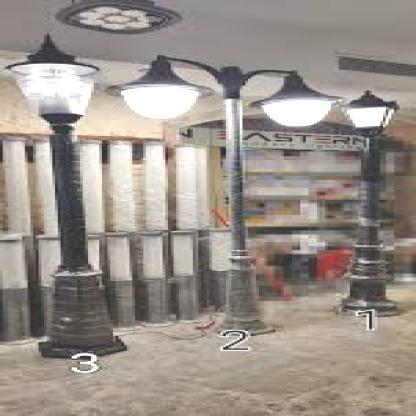light_pole: (107, 53, 339, 337), (5, 36, 124, 355), (336, 91, 400, 315)
